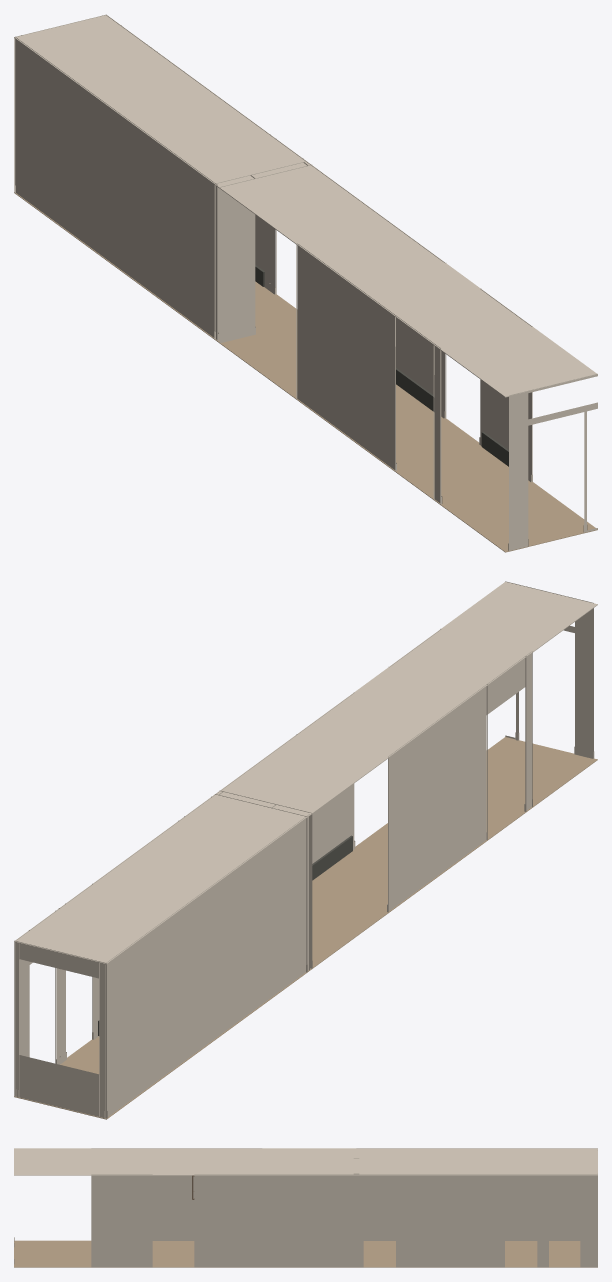
Rendered from corridor-3.glb.
3 views of the same model, one above another, from view 1: azimuth 30°, elevation 25°; view 2: azimuth 150°, elevation 25°; view 3: azimuth 270°, elevation 25° (orthographic). The views are drawn at different scales.
Visible parts, largest first — view 1: DESIGN | corridor removable wall finish, DESIGN | corridor ceiling finish, DESIGN | corridor floor finish; view 2: DESIGN | corridor removable wall finish, DESIGN | corridor ceiling finish, DESIGN | corridor floor finish, DESIGN | Low pale stone skirting.003; view 3: DESIGN | corridor removable wall finish, DESIGN | corridor ceiling finish, DESIGN | corridor floor finish.
Boxes of the visible parts, x1,y1,x2,y2 form: DESIGN | corridor removable wall finish: (14, 14, 597, 550); DESIGN | corridor ceiling finish: (14, 15, 597, 397); DESIGN | corridor floor finish: (14, 192, 597, 552); DESIGN | corridor removable wall finish: (14, 581, 594, 1118); DESIGN | corridor ceiling finish: (14, 582, 597, 964); DESIGN | corridor floor finish: (14, 737, 597, 1119); DESIGN | Low pale stone skirting.003: (312, 835, 352, 880); DESIGN | corridor removable wall finish: (14, 1148, 597, 1267); DESIGN | corridor ceiling finish: (14, 1148, 597, 1175); DESIGN | corridor floor finish: (14, 1240, 597, 1267).
Bounding box in the file's own units: 1.7 × 2.74 × 15.63.
